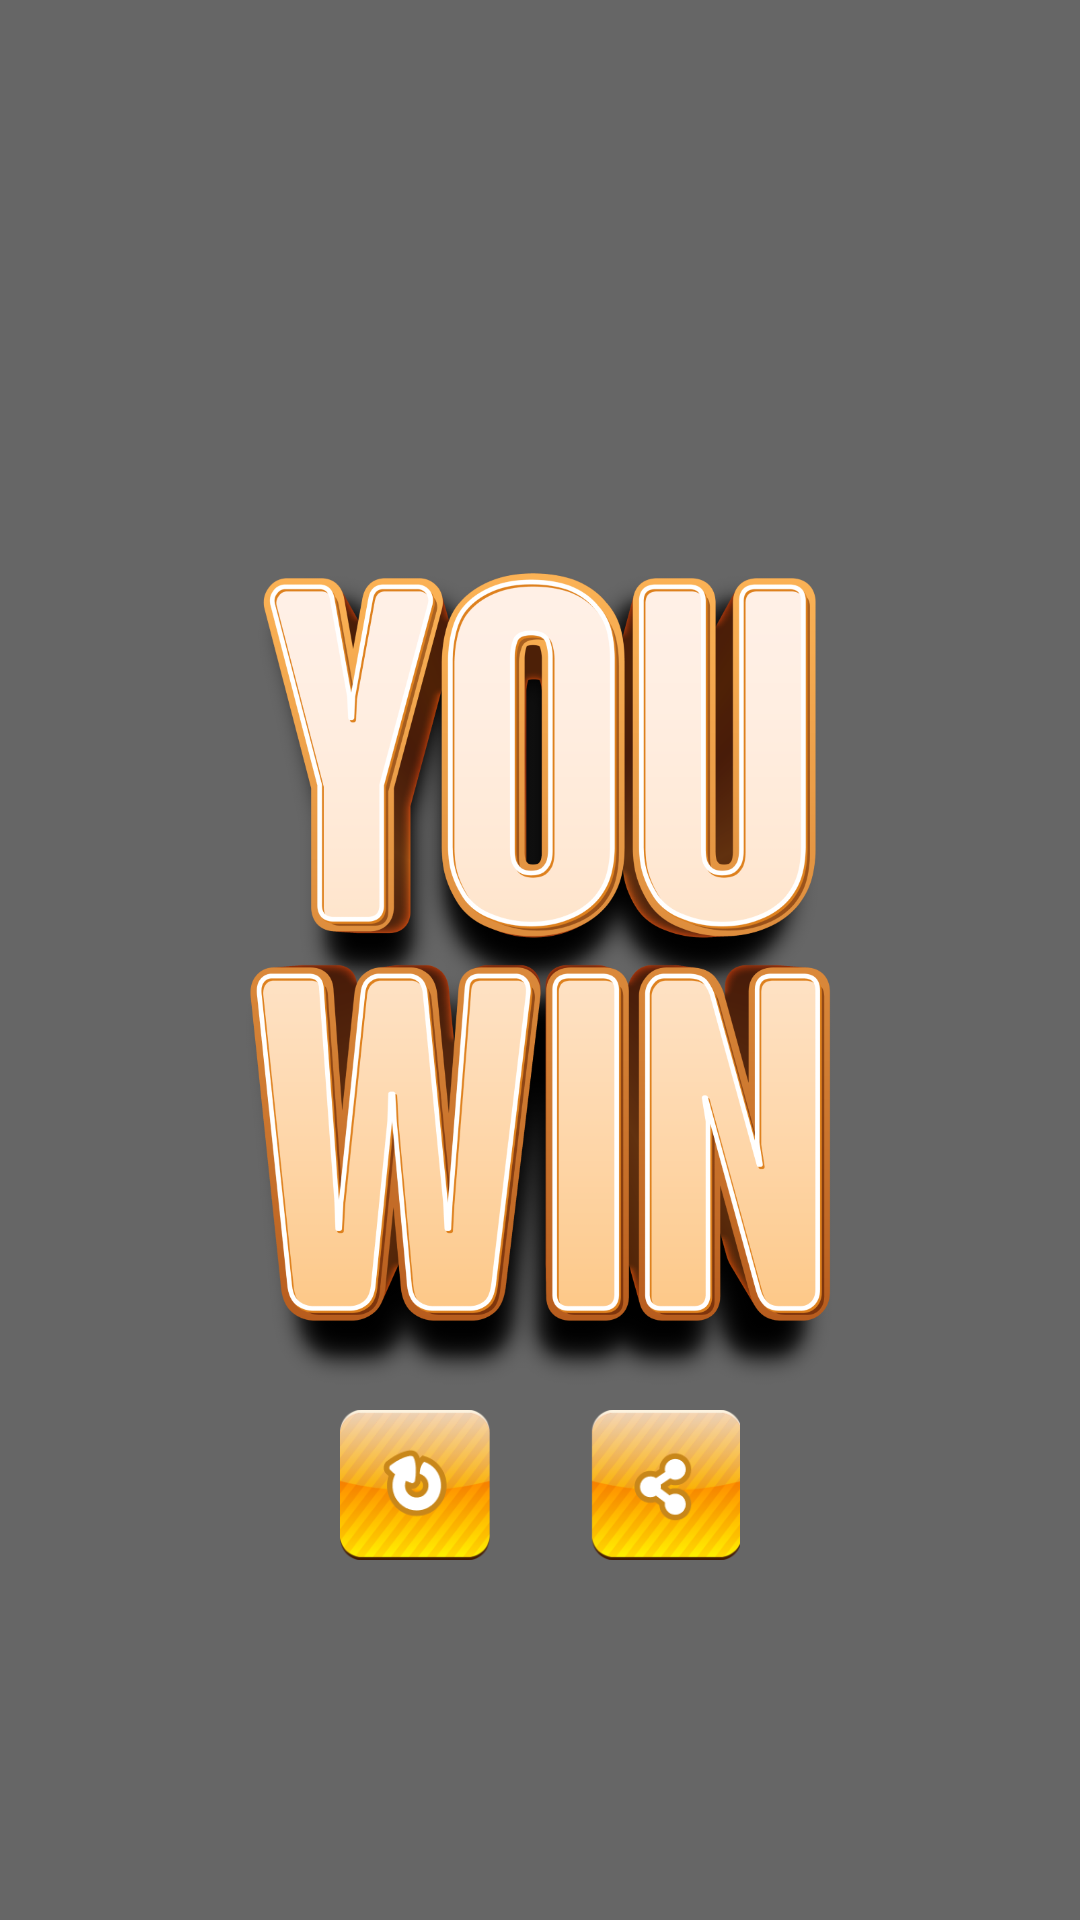

Icons on this 1080w x 1920h Android screen, each with the point to tap as (x=x, y=y):
replay: (x=415, y=1485)
share: (x=666, y=1485)
